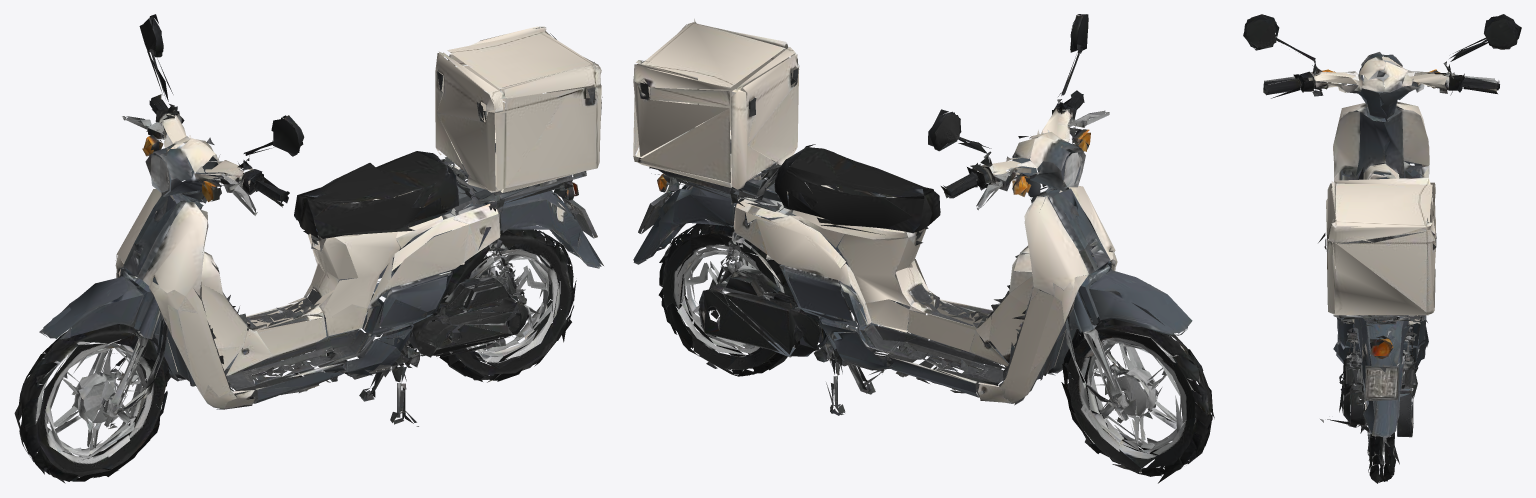
The model's file is H_scooter.glb.
3 views of the same model, side by side, from view 1: azimuth 30°, elevation 25°; view 2: azimuth 150°, elevation 25°; view 3: azimuth 270°, elevation 25° (orthographic). The views are drawn at different scales.
Visible parts, largest first — view 1: H_scooter; view 2: H_scooter; view 3: H_scooter.
Part boxes in pixels (x1=…): H_scooter: x1=14, y1=14, x2=603, y2=483; H_scooter: x1=633, y1=14, x2=1214, y2=483; H_scooter: x1=1243, y1=14, x2=1521, y2=483.
Size of the model in its own units: 1.7 by 1.08 by 0.7934.
Materials: 1 (1 with a texture image).
